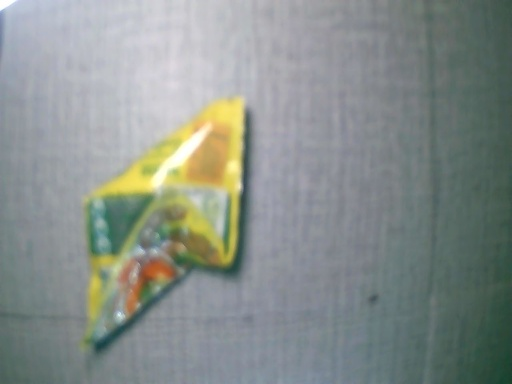plastic: (65, 96, 252, 349)
